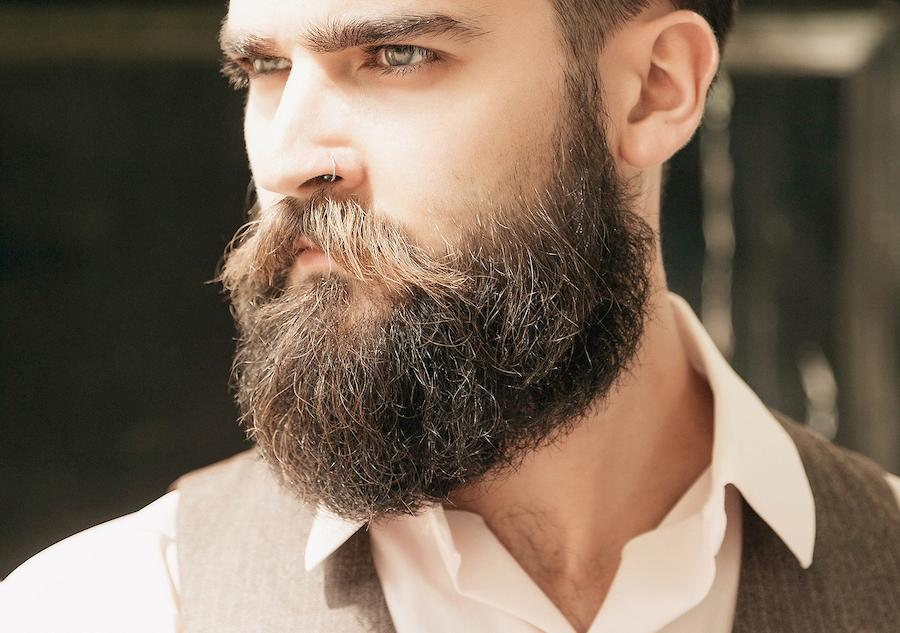beard: (201, 150, 667, 540)
